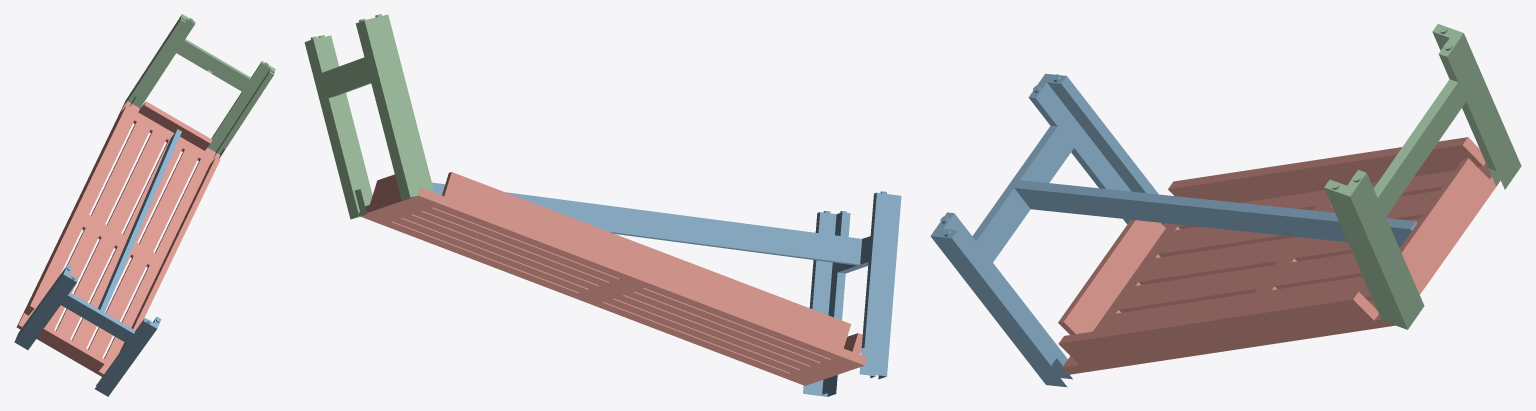
3 renders of one model, left to right at view 1: azimuth 30°, elevation 25°; view 2: azimuth 150°, elevation 25°; view 3: azimuth 270°, elevation 25°, orthographic. The views are drawn at different scales.
Visible parts, largest first — view 1: world; view 2: world; view 3: world.
Part boxes in pixels (<box>): world: <box>14,14,275,396</box>; world: <box>304,14,901,396</box>; world: <box>930,24,1521,387</box>.
Size of the model in its own units: 2.07 by 1.7 by 1.72.
